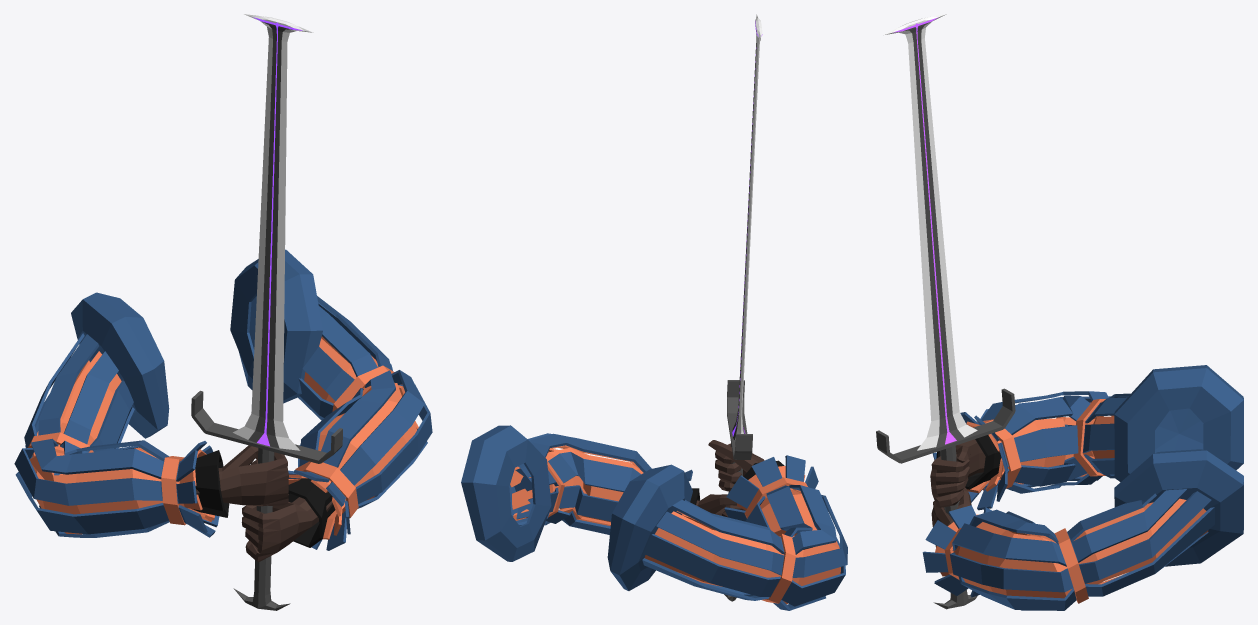
Rendered from fashionhandz.fbx.
3 views of the same model, side by side, from view 1: azimuth 30°, elevation 25°; view 2: azimuth 150°, elevation 25°; view 3: azimuth 270°, elevation 25° (orthographic). The views are drawn at different scales.
Visible parts, largest first — view 1: Cube.026, Cube.185, Cube.025, Cube.027, Plane.116, Cube.029, Cube.028; view 2: Cube.026, Cube.025, Cube.027, Cube.185, Plane.116, Cube.029; view 3: Cube.026, Cube.025, Cube.185, Cube.027, Cube.029, Plane.116, Cube.028, Plane.006.
Boxes of the visible parts, x1,y1,x2,y2 form: Cube.026: (14,296,432,550); Cube.185: (191,14,342,610); Cube.025: (71,249,322,438); Cube.027: (29,336,418,539); Plane.116: (220,445,312,562); Cube.029: (28,365,402,525); Cube.028: (192,450,335,547); Cube.026: (514,433,847,610); Cube.025: (461,425,692,590); Cube.027: (510,445,840,604); Cube.185: (724,14,762,601); Plane.116: (697,440,764,517); Cube.029: (547,460,807,603); Cube.026: (922,391,1214,610); Cube.025: (1114,365,1243,566); Cube.185: (876,14,1015,609); Cube.027: (935,402,1208,598); Cube.029: (944,399,1105,603); Plane.116: (930,445,971,526); Cube.028: (935,435,1001,547); Plane.006: (957,439,985,477).
Bounding box in the file's own units: 73.04 × 110 × 63.23.
